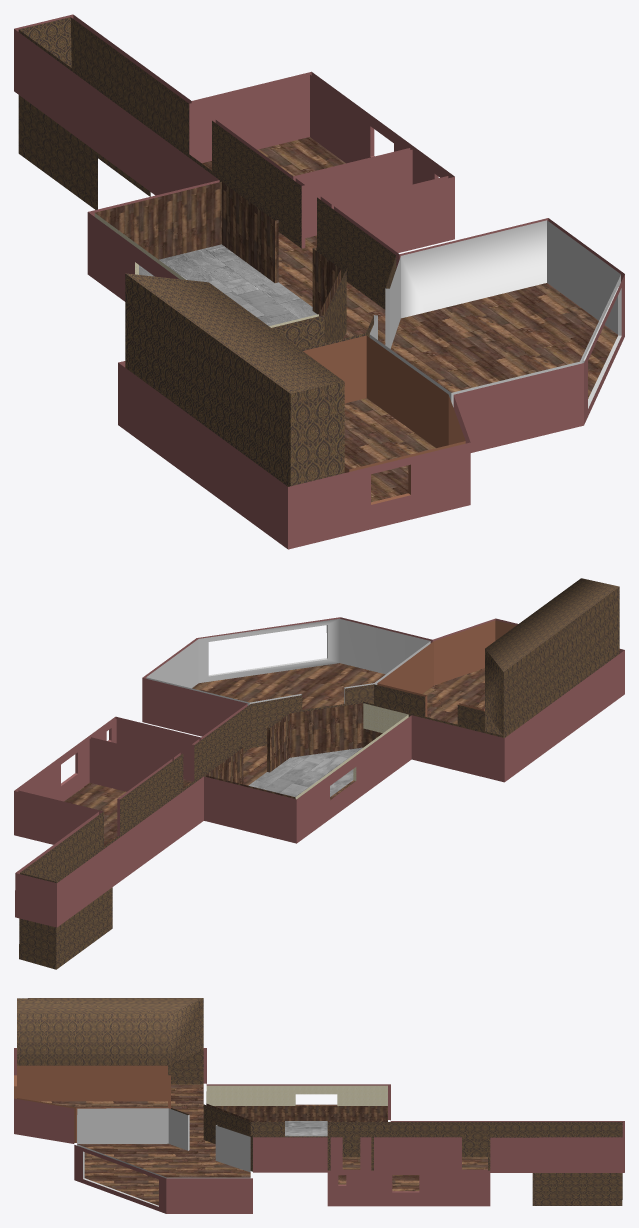
File: House Model.fbx
3 renders of one model, top to bottom at view 1: azimuth 30°, elevation 25°; view 2: azimuth 150°, elevation 25°; view 3: azimuth 270°, elevation 25°, orthographic. The views are drawn at different scales.
Parts seen in each view (by area): view 1: polySurface1, houseFloor, kitchenWall, kitchenFloor1; view 2: polySurface1, houseFloor, kitchenWall, kitchenFloor1, kitchenWall2; view 3: polySurface1, houseFloor, kitchenWall2, kitchenWall, kitchenFloor1.
Part boxes in pixels (x1,y1,x2,y2): polySurface1: [14, 14, 624, 549]; houseFloor: [202, 137, 617, 502]; kitchenWall: [95, 181, 340, 316]; kitchenFloor1: [139, 244, 317, 325]; polySurface1: [14, 578, 624, 969]; houseFloor: [64, 663, 484, 846]; kitchenWall: [205, 703, 382, 799]; kitchenFloor1: [248, 747, 362, 797]; kitchenWall2: [295, 703, 408, 799]; polySurface1: [14, 998, 624, 1213]; houseFloor: [39, 1084, 487, 1205]; kitchenWall2: [206, 1085, 387, 1105]; kitchenWall: [206, 1103, 387, 1121]; kitchenFloor1: [285, 1121, 327, 1136].
Size of the model in its own units: 716 by 311 by 1417.
Materials: 7 (4 with a texture image).
